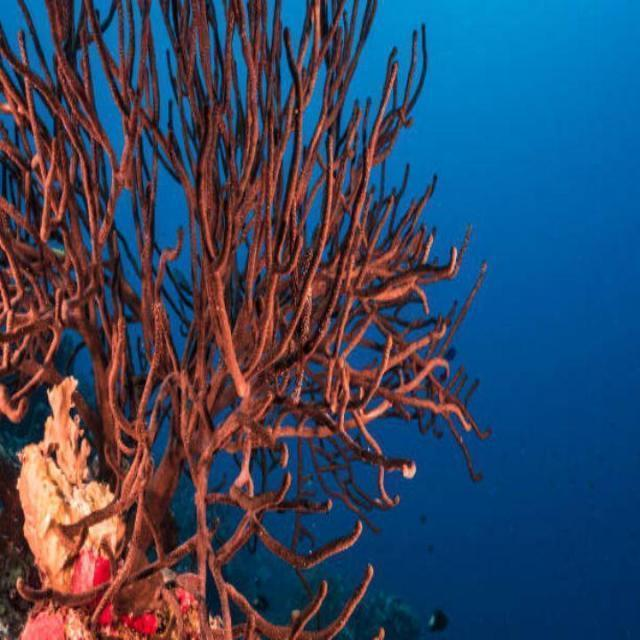Healthy Coral: (55, 59, 462, 591)
